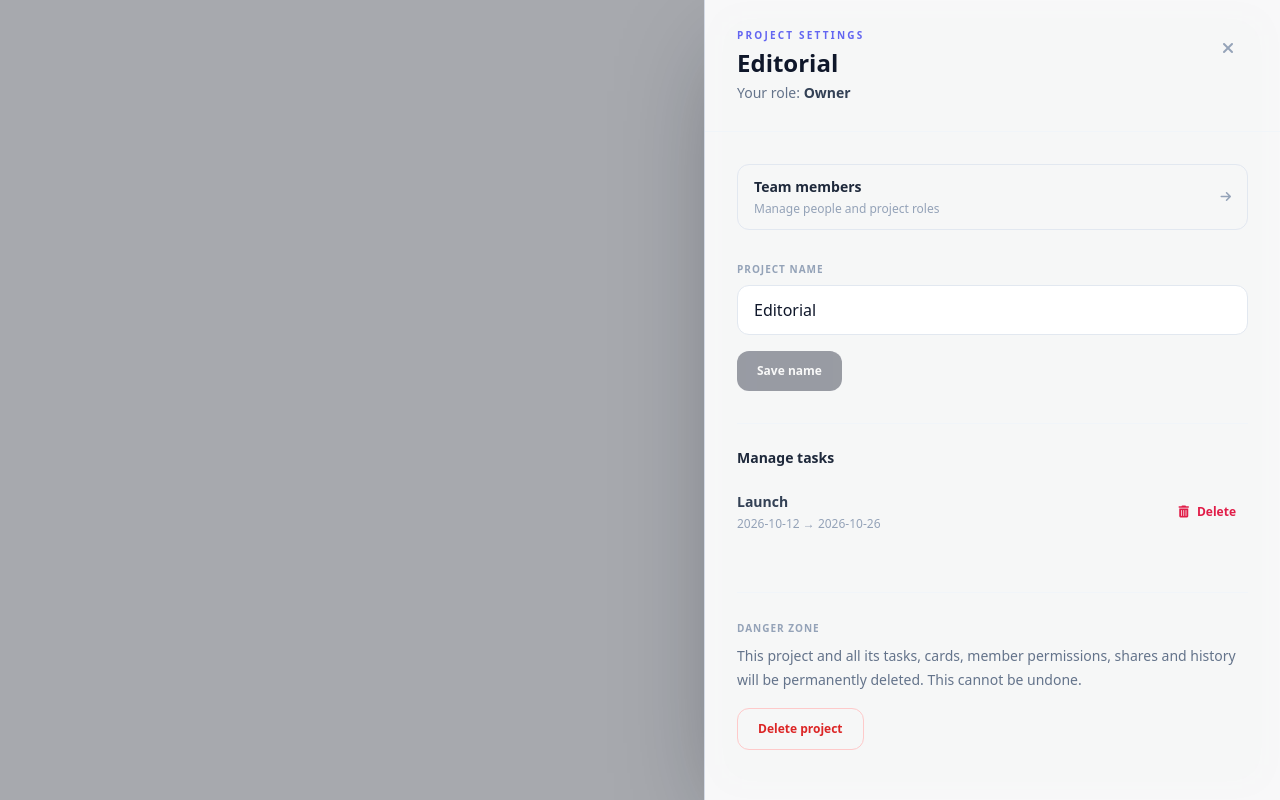
Test: task permanent deletion in project settings › keeps a failed confirmation open, announces the error, and retries successfully
Click the button "Delete" at (1207, 512), box top-left (1166, 496), bottom-right (1248, 528)
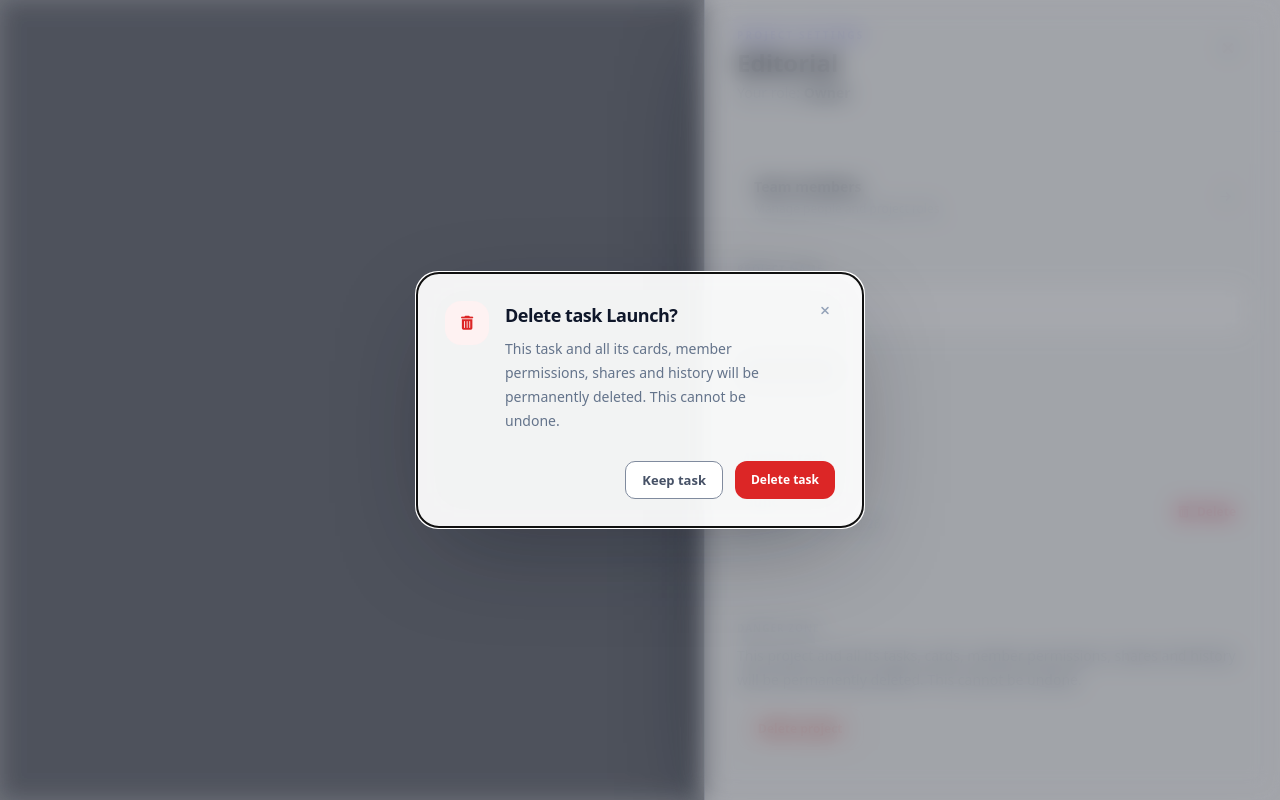
Click the button "Delete task" at (785, 480), box top-left (735, 461), bottom-right (835, 499)
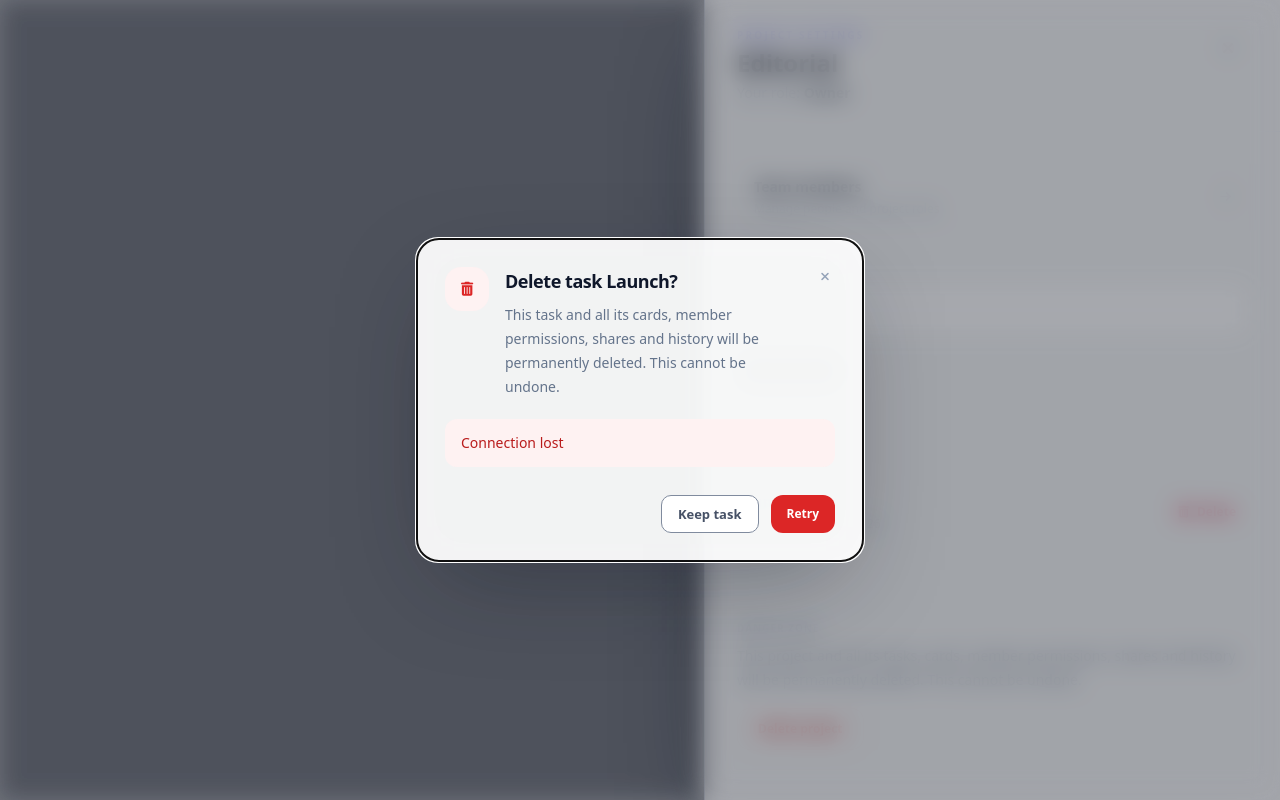
Expected: the message "Connection lost" is shown, top-left (445, 419), bottom-right (835, 467)
Click the button "Retry" at (803, 514), box top-left (770, 495), bottom-right (835, 533)
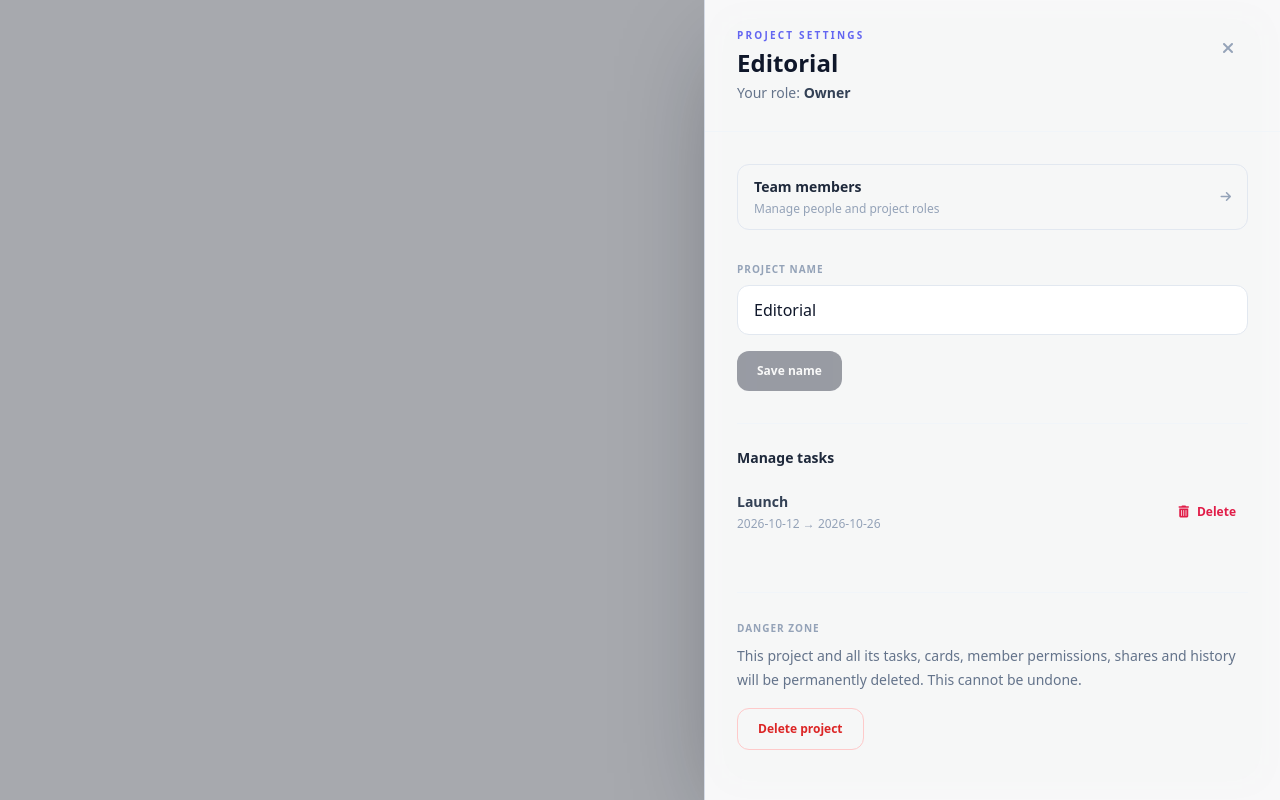
Expected: the dialog is shown, top-left (704, 0), bottom-right (1279, 799)
Expected: the message "Connection lost" is gone
